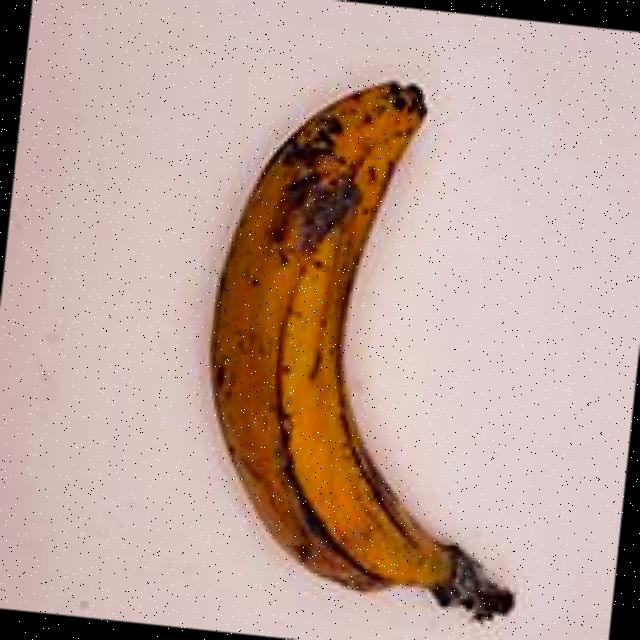Overripe: (141, 46, 617, 640)
